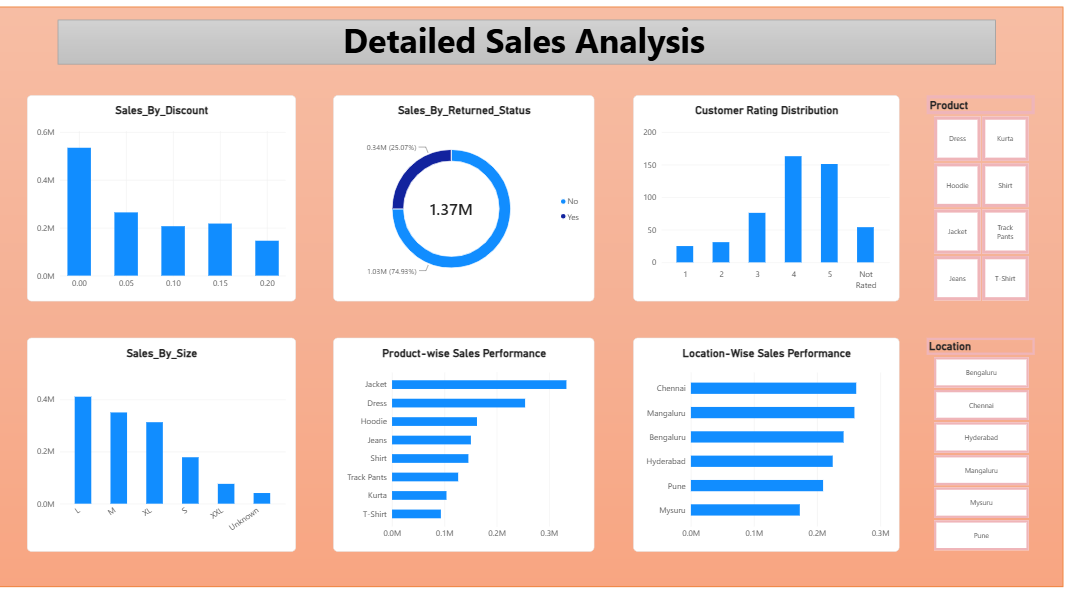

What the dashboard file says about the page in this screenshot:
{"tool":"powerbi","page":{"name":"Detailed_Sales_Analysis","canvas":[1920,1080],"ordinal":1},"visuals":[{"type":"textbox","box":[132,47.6,1629.6,82.2],"z":0},{"type":"clusteredColumnChart","title":"Sales_By_Discount","fields":{"Category":["Raw_Sales_Data.Discount"],"Y":["Sum(Raw_Sales_Data.Sales_Amount)"]},"box":[86.6,184,465.3,357.1],"z":1},{"type":"clusteredColumnChart","title":"Sales_By_Size","fields":{"Category":["Raw_Sales_Data.Size"],"Y":["Sum(Raw_Sales_Data.Sales_Amount)"]},"box":[86.6,603.8,465.3,370.1],"z":2},{"type":"donutChart","title":"Sales_By_Returned_Status","fields":{"Category":["Raw_Sales_Data.Returned"],"Y":["Sum(Raw_Sales_Data.Sales_Amount)"]},"box":[616.8,184,452.3,357.1],"z":3},{"type":"clusteredBarChart","title":"Product-wise Sales Performance","fields":{"Category":["Raw_Sales_Data.Product"],"Y":["Sum(Raw_Sales_Data.Sales_Amount)"]},"box":[616.8,603.8,452.3,370.1],"z":4},{"type":"clusteredColumnChart","title":"Customer Rating Distribution","fields":{"Category":["Raw_Sales_Data.Customer_Rating"],"Y":["CountNonNull(Raw_Sales_Data.Customer_Rating)"]},"box":[1136.2,184,461,357.1],"z":5},{"type":"clusteredBarChart","title":"Location-Wise Sales Performance","fields":{"Category":["Raw_Sales_Data.Location"],"Y":["Sum(Raw_Sales_Data.Sales_Amount)"]},"box":[1136.2,603.8,461,370.1],"z":6},{"type":"slicer","fields":{"Values":["Raw_Sales_Data.Product"]},"box":[1636.1,184,203.4,357.1],"z":7},{"type":"slicer","fields":{"Values":["Raw_Sales_Data.Location"]},"box":[1636.1,603.8,203.4,370.1],"z":8}]}

Visuals, with their boxes in screenshot pixels (x1, y1, x2, y2), scaled from the page's 1920x1080 canvas onto the 1073x596 screenshot:
textbox: 74,26,984,72
"Sales_By_Discount" clusteredColumnChart: 48,102,308,299
"Sales_By_Size" clusteredColumnChart: 48,333,308,537
"Sales_By_Returned_Status" donutChart: 345,102,597,299
"Product-wise Sales Performance" clusteredBarChart: 345,333,597,537
"Customer Rating Distribution" clusteredColumnChart: 635,102,893,299
"Location-Wise Sales Performance" clusteredBarChart: 635,333,893,537
slicer - Raw_Sales_Data.Product: 914,102,1028,299
slicer - Raw_Sales_Data.Location: 914,333,1028,537
